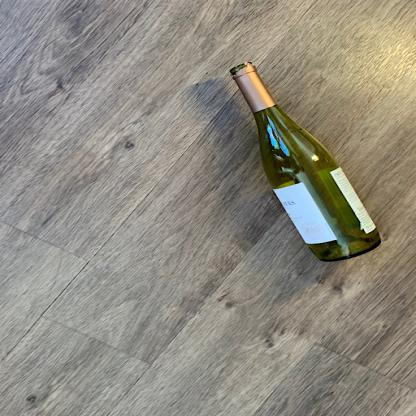trash: (228, 63, 384, 264)
